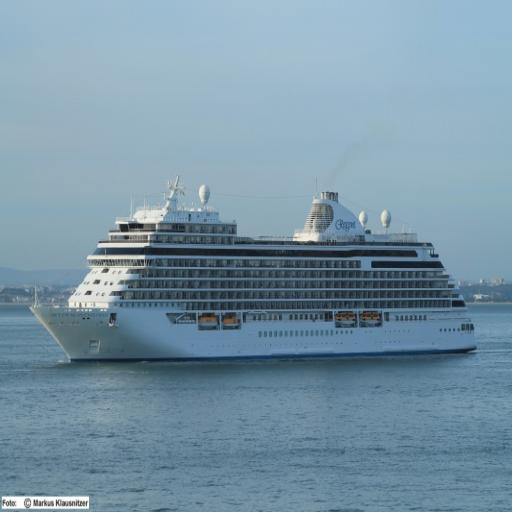cruises: (26, 173, 484, 367)
